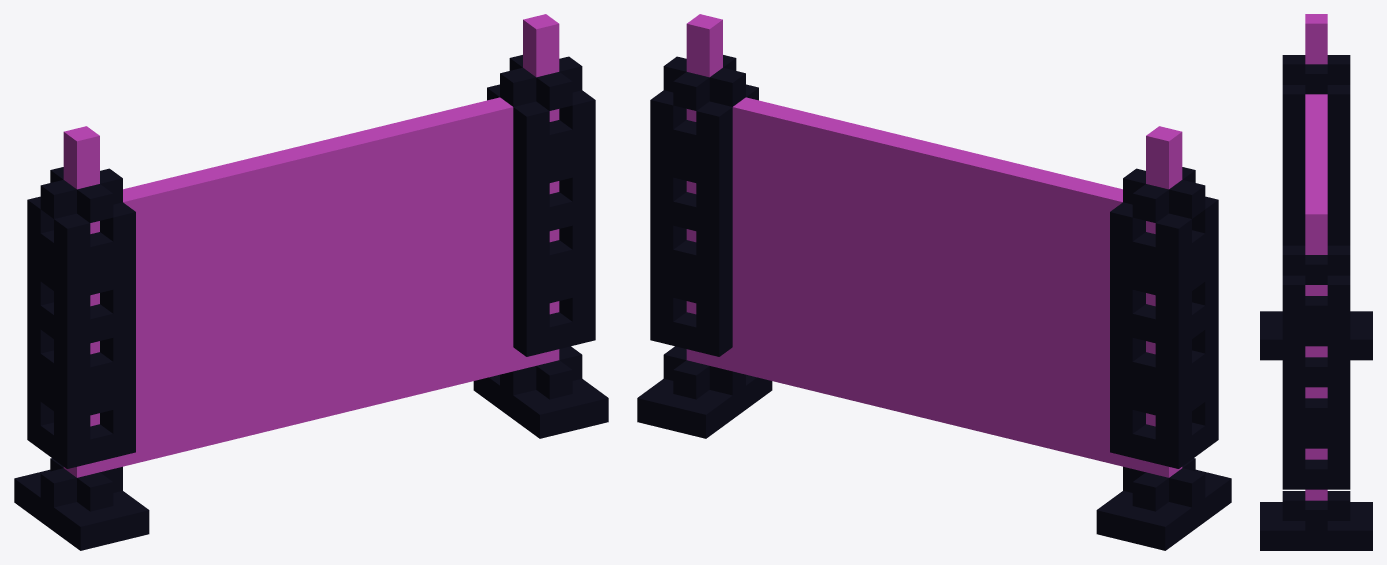
The model's file is SM_Road_Gate.fbx.
3 views of the same model, side by side, from view 1: azimuth 30°, elevation 25°; view 2: azimuth 150°, elevation 25°; view 3: azimuth 270°, elevation 25° (orthographic). The views are drawn at different scales.
Parts seen in each view (by area): view 1: SM_Road_Gate2; view 2: SM_Road_Gate2; view 3: SM_Road_Gate2.
Boxes of the visible parts, <box> form: SM_Road_Gate2: <box>14,14,608,550</box>; SM_Road_Gate2: <box>637,14,1231,550</box>; SM_Road_Gate2: <box>1260,14,1372,550</box>.
Bounding box in the file's own units: 460 × 320 × 100.
2 materials, 1 textured.
